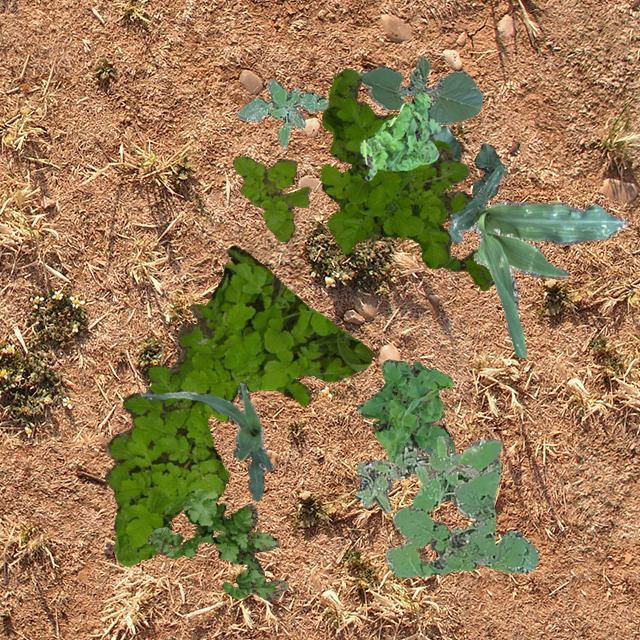crop: (448, 165, 626, 356), (140, 380, 272, 500), (358, 54, 482, 122), (472, 143, 502, 200), (430, 124, 460, 160)
weed: (104, 244, 372, 566), (320, 68, 493, 290), (383, 459, 538, 576), (146, 488, 288, 598), (356, 359, 454, 462), (353, 444, 478, 512), (411, 434, 502, 514), (358, 92, 439, 180), (232, 157, 308, 240), (236, 78, 326, 146)
